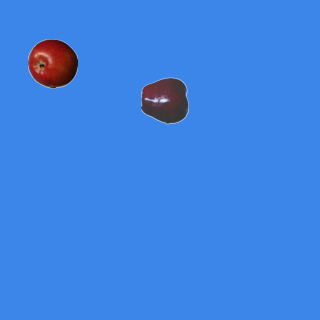Apple Braeburn: (27, 38, 77, 88)
Apple Red Delicious: (140, 75, 190, 125)
